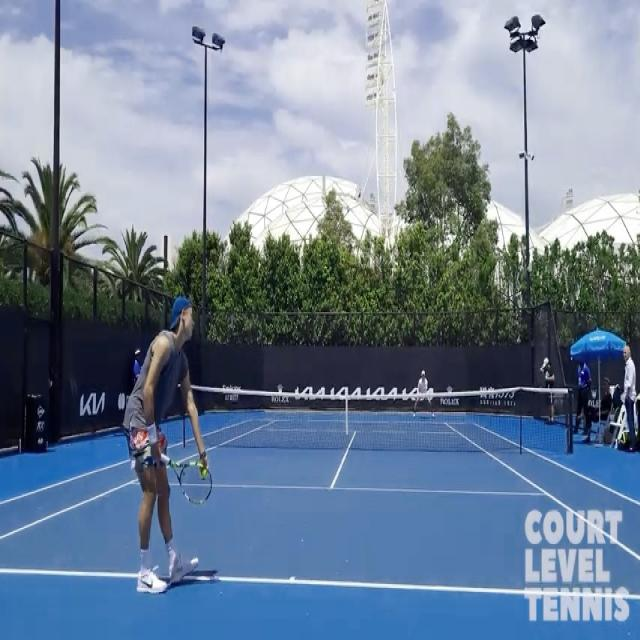serve_ready: (114, 292, 223, 606)
